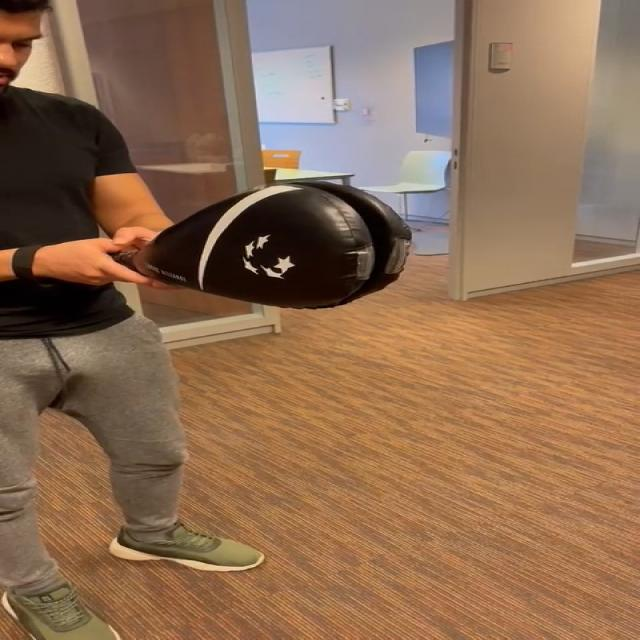paddle: (154, 182, 410, 307)
